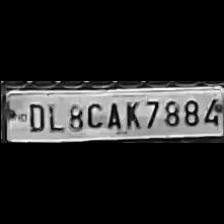4: (201, 95, 221, 127)
7: (140, 97, 158, 129)
8: (160, 96, 180, 128), (179, 96, 199, 128), (64, 101, 84, 131)
A: (103, 98, 123, 130)
C: (83, 99, 103, 129)
D: (22, 100, 46, 132)
K: (122, 98, 140, 130)
L: (44, 100, 61, 132)
